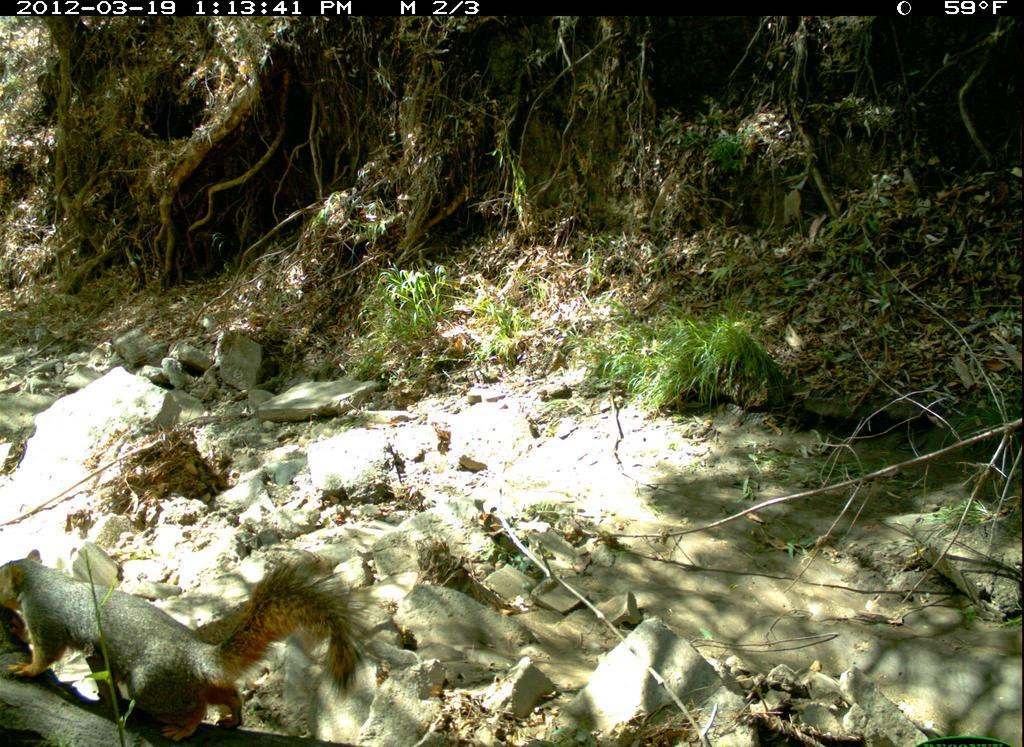squirrel: (3, 546, 369, 737)
